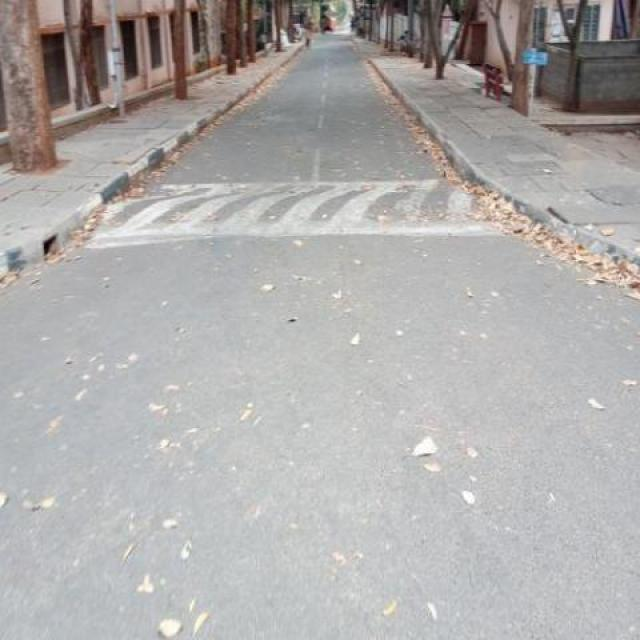Speed Bump: (92, 180, 491, 243)
